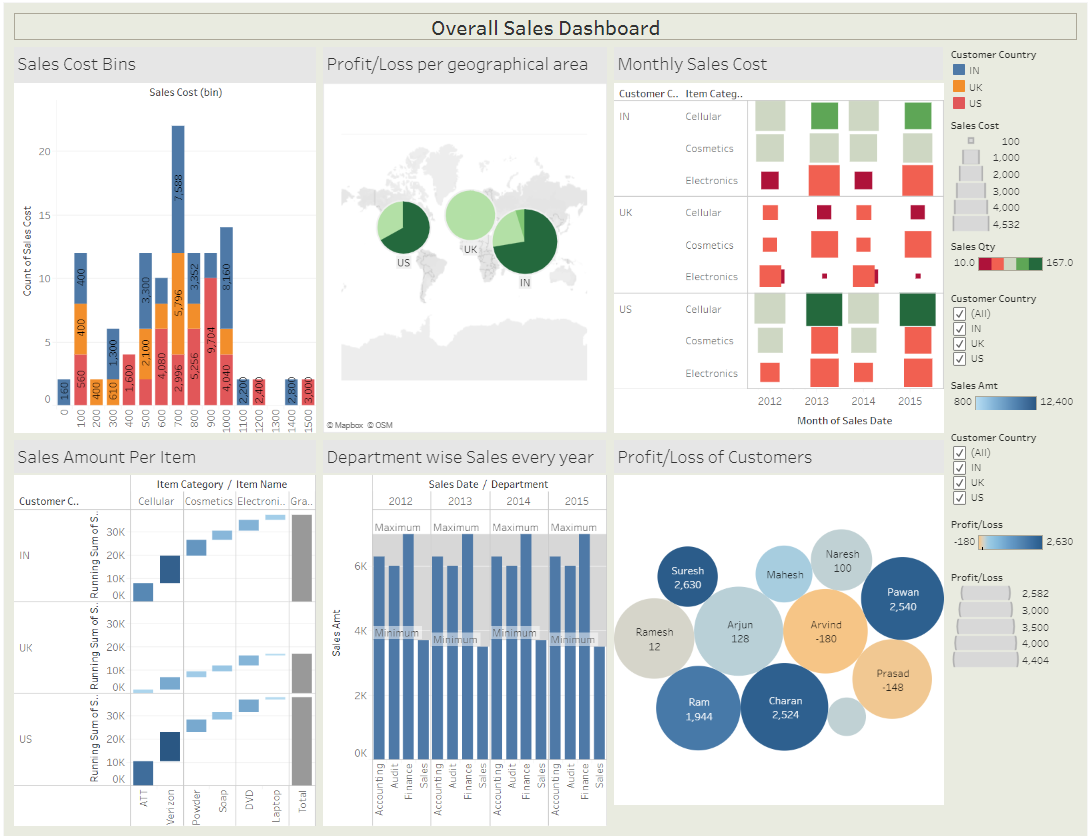

What the dashboard file says about the page in this screenshot:
{"tool":"tableau","page":{"name":"Overall Sales","canvas":[1300,1000],"ordinal":0},"visuals":[{"type":"title","box":[8,8,1284,41]},{"type":"worksheet","title":"Sales Cost Bins","mark":"Automatic","rows":["Sales_Cost"],"cols":["Sales Cost (bin)"],"box":[8,49,371,471.5]},{"type":"worksheet","title":"Profit/Loss per geographical area","mark":"Pie","box":[378.9,49,348.8,471]},{"type":"worksheet","title":"Monthly Sales Cost","mark":"Square","rows":["Customer Country","Item Category"],"cols":["Sales Date"],"box":[727.7,49,404.3,471.5]},{"type":"legend","title":"Sales Cost Bins","param":"[federated.1ruarrf0vghbz11fw92zv17odfsx].[none:Customer Country:nk]","box":[1132,49,160,85]},{"type":"legend","title":"Monthly Sales Cost","param":"[federated.1ruarrf0vghbz11fw92zv17odfsx].[sum:Sales_Cost:qk]","box":[1132,134,160,145]},{"type":"legend","title":"Monthly Sales Cost","param":"[federated.1ruarrf0vghbz11fw92zv17odfsx].[sum:Sales_Qty:qk]","box":[1132,279,160,64]},{"type":"filter","title":"Sales Amount Per Item","param":"[federated.1ruarrf0vghbz11fw92zv17odfsx].[none:Customer Country:nk]","box":[1132,343,160,103]},{"type":"legend","title":"Sales Amount Per Item","param":"[federated.1ruarrf0vghbz11fw92zv17odfsx].[sum:Sales_Amt:qk]","box":[1132,446,160,64]},{"type":"filter","title":"Profit/Loss per customer","param":"[federated.1ruarrf0vghbz11fw92zv17odfsx].[none:Customer Country:nk]","box":[1132,510,160,103]},{"type":"worksheet","title":"Department wise Sales every year","mark":"Bar","rows":["Sales_Amt"],"cols":["Sales Date","Department"],"box":[378.9,520,348.8,472]},{"type":"worksheet","title":"Sales Amount Per Item","mark":"GanttBar","rows":["Customer Country","Sales_Amt"],"cols":["Item Category","Item Name"],"box":[8,520.5,371,471.5]},{"type":"worksheet","title":"Profit/Loss per customer","mark":"Circle","box":[727.7,520.5,404.3,471.5]},{"type":"legend","title":"Profit/Loss per customer","param":"[federated.1ruarrf0vghbz11fw92zv17odfsx].[sum:Calculation_2011138738289127429:qk","box":[1132,613,160,64]},{"type":"legend","title":"Profit/Loss per geographical area","param":"[federated.1ruarrf0vghbz11fw92zv17odfsx].[sum:Calculation_2011138738289127429:qk","box":[1132,677,160,125]}]}

Visuals, with their boxes in screenshot pixels (x1, y1, x2, y2), scaled from the page's 1300x1000 canvas onto the 1091x836 screenshot:
title: (7, 7, 1084, 41)
"Sales Cost Bins" worksheet: (7, 41, 318, 435)
"Profit/Loss per geographical area" worksheet (Pie marks): (318, 41, 611, 435)
"Monthly Sales Cost" worksheet (Square marks): (611, 41, 950, 435)
"Sales Cost Bins" legend: (950, 41, 1084, 112)
"Monthly Sales Cost" legend: (950, 112, 1084, 233)
"Monthly Sales Cost" legend: (950, 233, 1084, 287)
"Sales Amount Per Item" filter: (950, 287, 1084, 373)
"Sales Amount Per Item" legend: (950, 373, 1084, 426)
"Profit/Loss per customer" filter: (950, 426, 1084, 512)
"Department wise Sales every year" worksheet (Bar marks): (318, 435, 611, 829)
"Sales Amount Per Item" worksheet (GanttBar marks): (7, 435, 318, 829)
"Profit/Loss per customer" worksheet (Circle marks): (611, 435, 950, 829)
"Profit/Loss per customer" legend: (950, 512, 1084, 566)
"Profit/Loss per geographical area" legend: (950, 566, 1084, 670)
